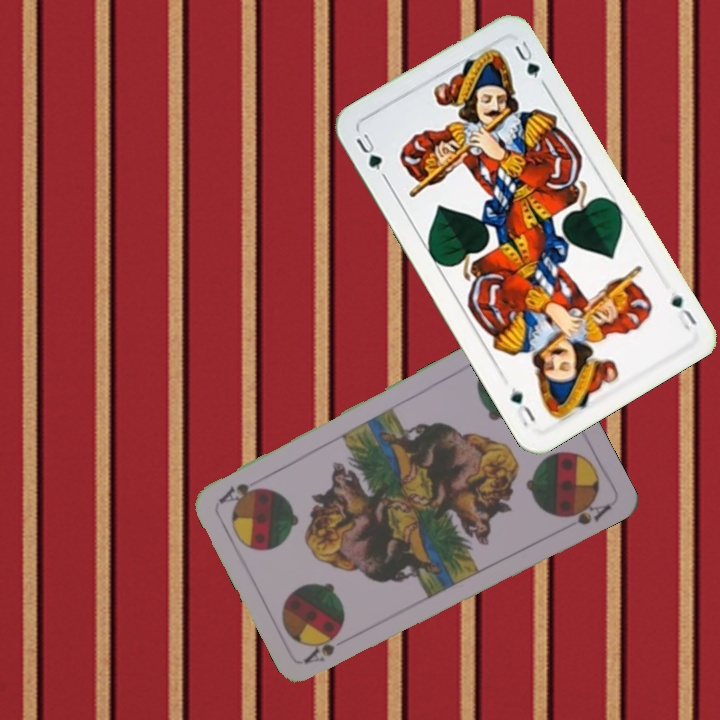GU: (351, 129, 385, 174), (667, 290, 699, 333)
SA: (301, 630, 342, 666)
